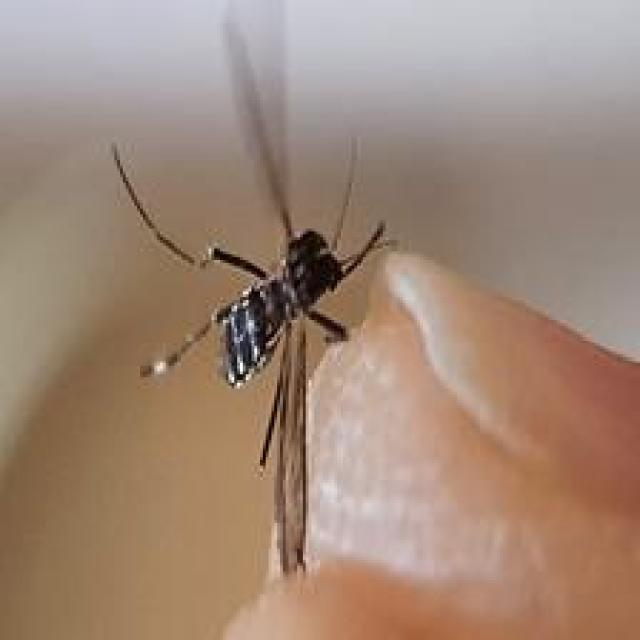Aedes albopictus: (110, 0, 399, 580)
